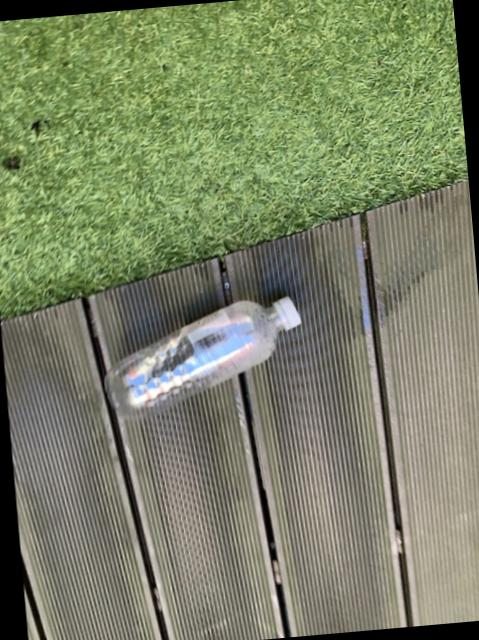plastic: (105, 297, 300, 419)
